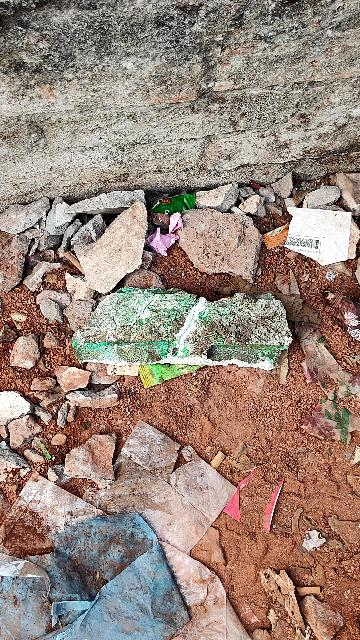packet: (84, 292, 287, 360)
